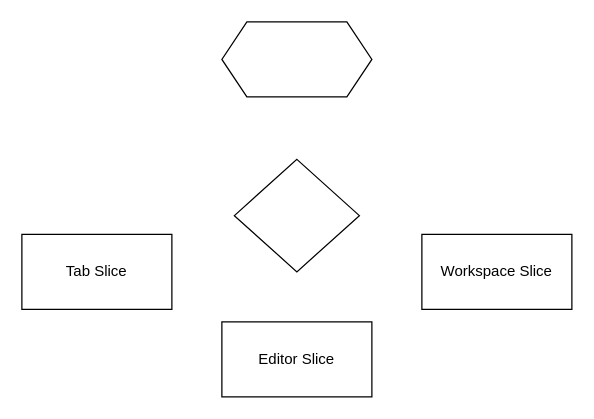
This 594x419 diagram has some shape labels left out. Here are the shapes that lost their labels. From the top down, the centre of each, then its label:
At pixel 296 59: "Shared Slice".
At pixel 296 215: "Create a POU".
